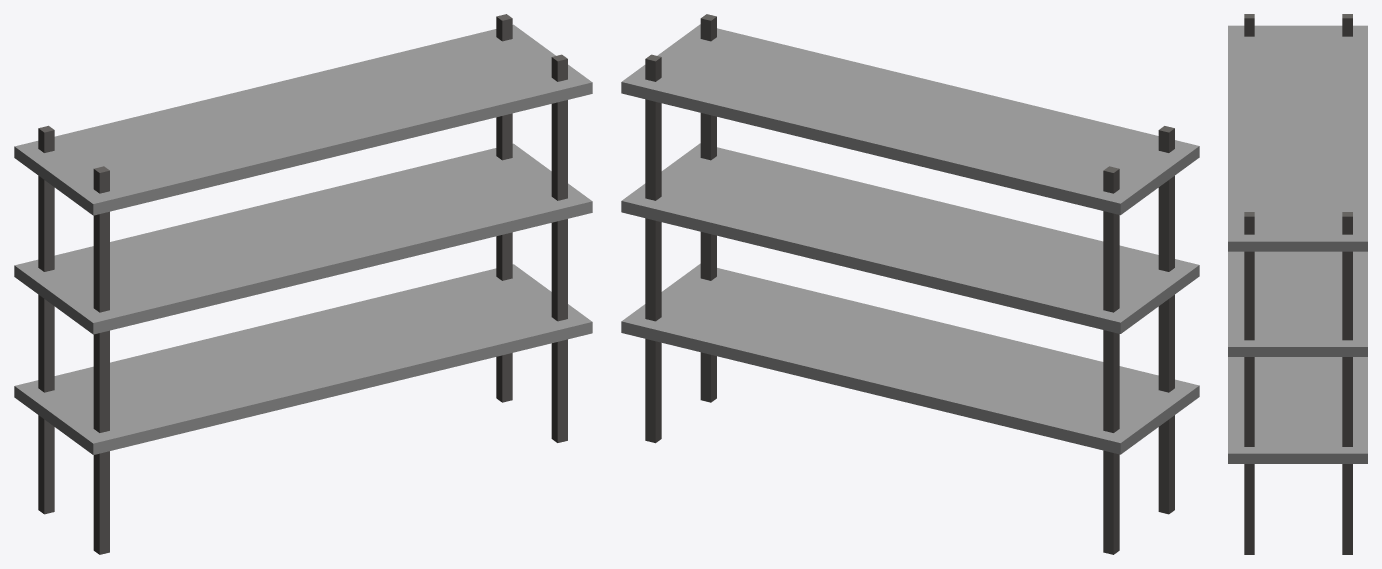
Rendered from Shelf2.FBX.
3 views of the same model, side by side, from view 1: azimuth 30°, elevation 25°; view 2: azimuth 150°, elevation 25°; view 3: azimuth 270°, elevation 25° (orthographic). The views are drawn at different scales.
Visible parts, largest first — view 1: SM_Shelf_02; view 2: SM_Shelf_02; view 3: SM_Shelf_02.
Part boxes in pixels (box(x1,y1,x2,y2)): SM_Shelf_02: box(14, 14, 592, 554); SM_Shelf_02: box(621, 14, 1199, 554); SM_Shelf_02: box(1228, 14, 1367, 554).
Bounding box in the file's own units: 199 × 146 × 54.57.
